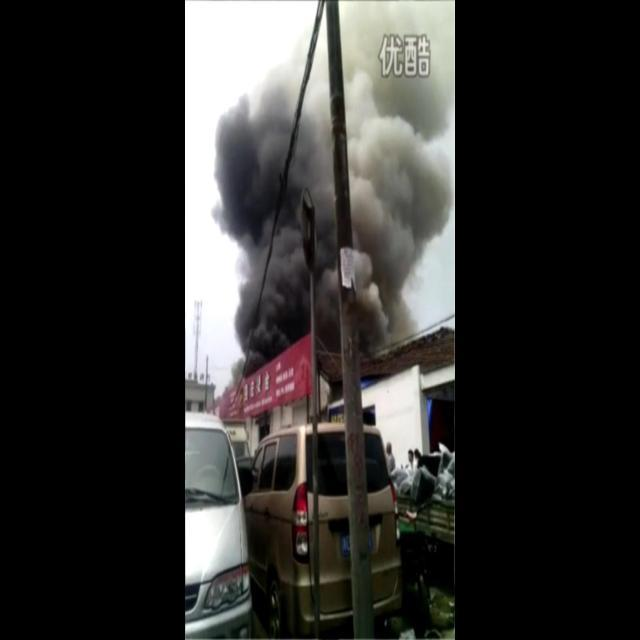Smoke: (210, 1, 456, 400)
